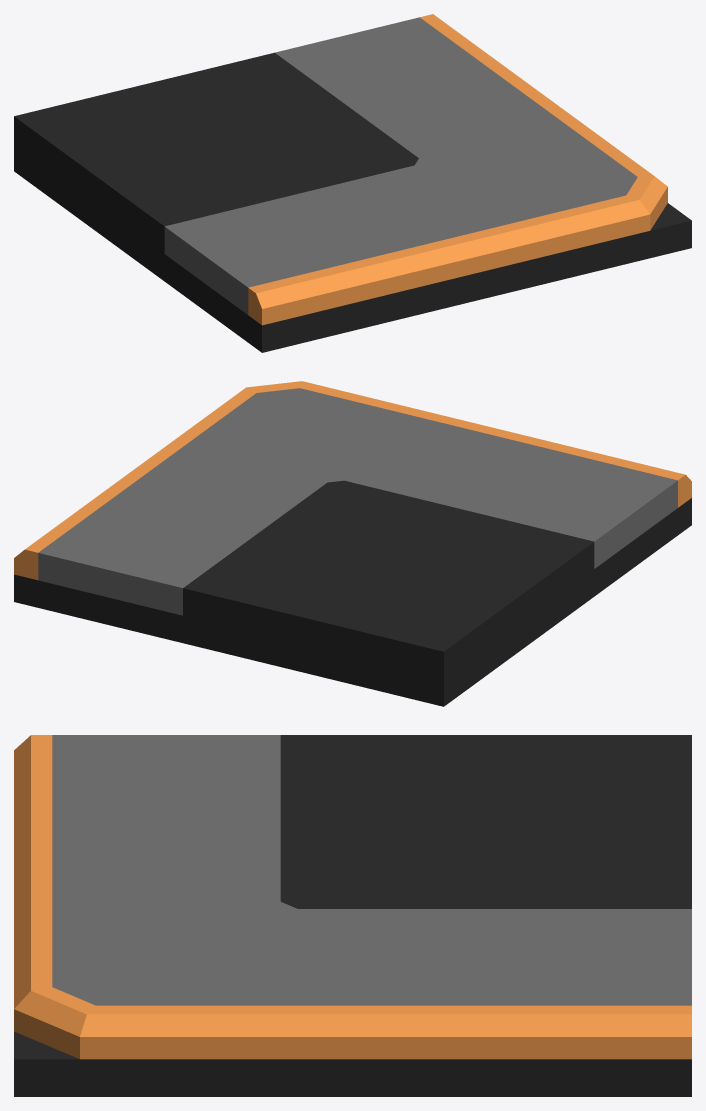
File: SideWalk_05.FBX
3 views of the same model, one above another, from view 1: azimuth 30°, elevation 25°; view 2: azimuth 150°, elevation 25°; view 3: azimuth 270°, elevation 25° (orthographic). The views are drawn at different scales.
Parts seen in each view (by area): view 1: SideWalk_05; view 2: SideWalk_05; view 3: SideWalk_05.
Boxes of the visible parts, <box> form: SideWalk_05: <box>14,14,691,352</box>; SideWalk_05: <box>14,381,691,706</box>; SideWalk_05: <box>14,735,691,1096</box>.
Size of the model in its own units: 10 by 1.22 by 10.
